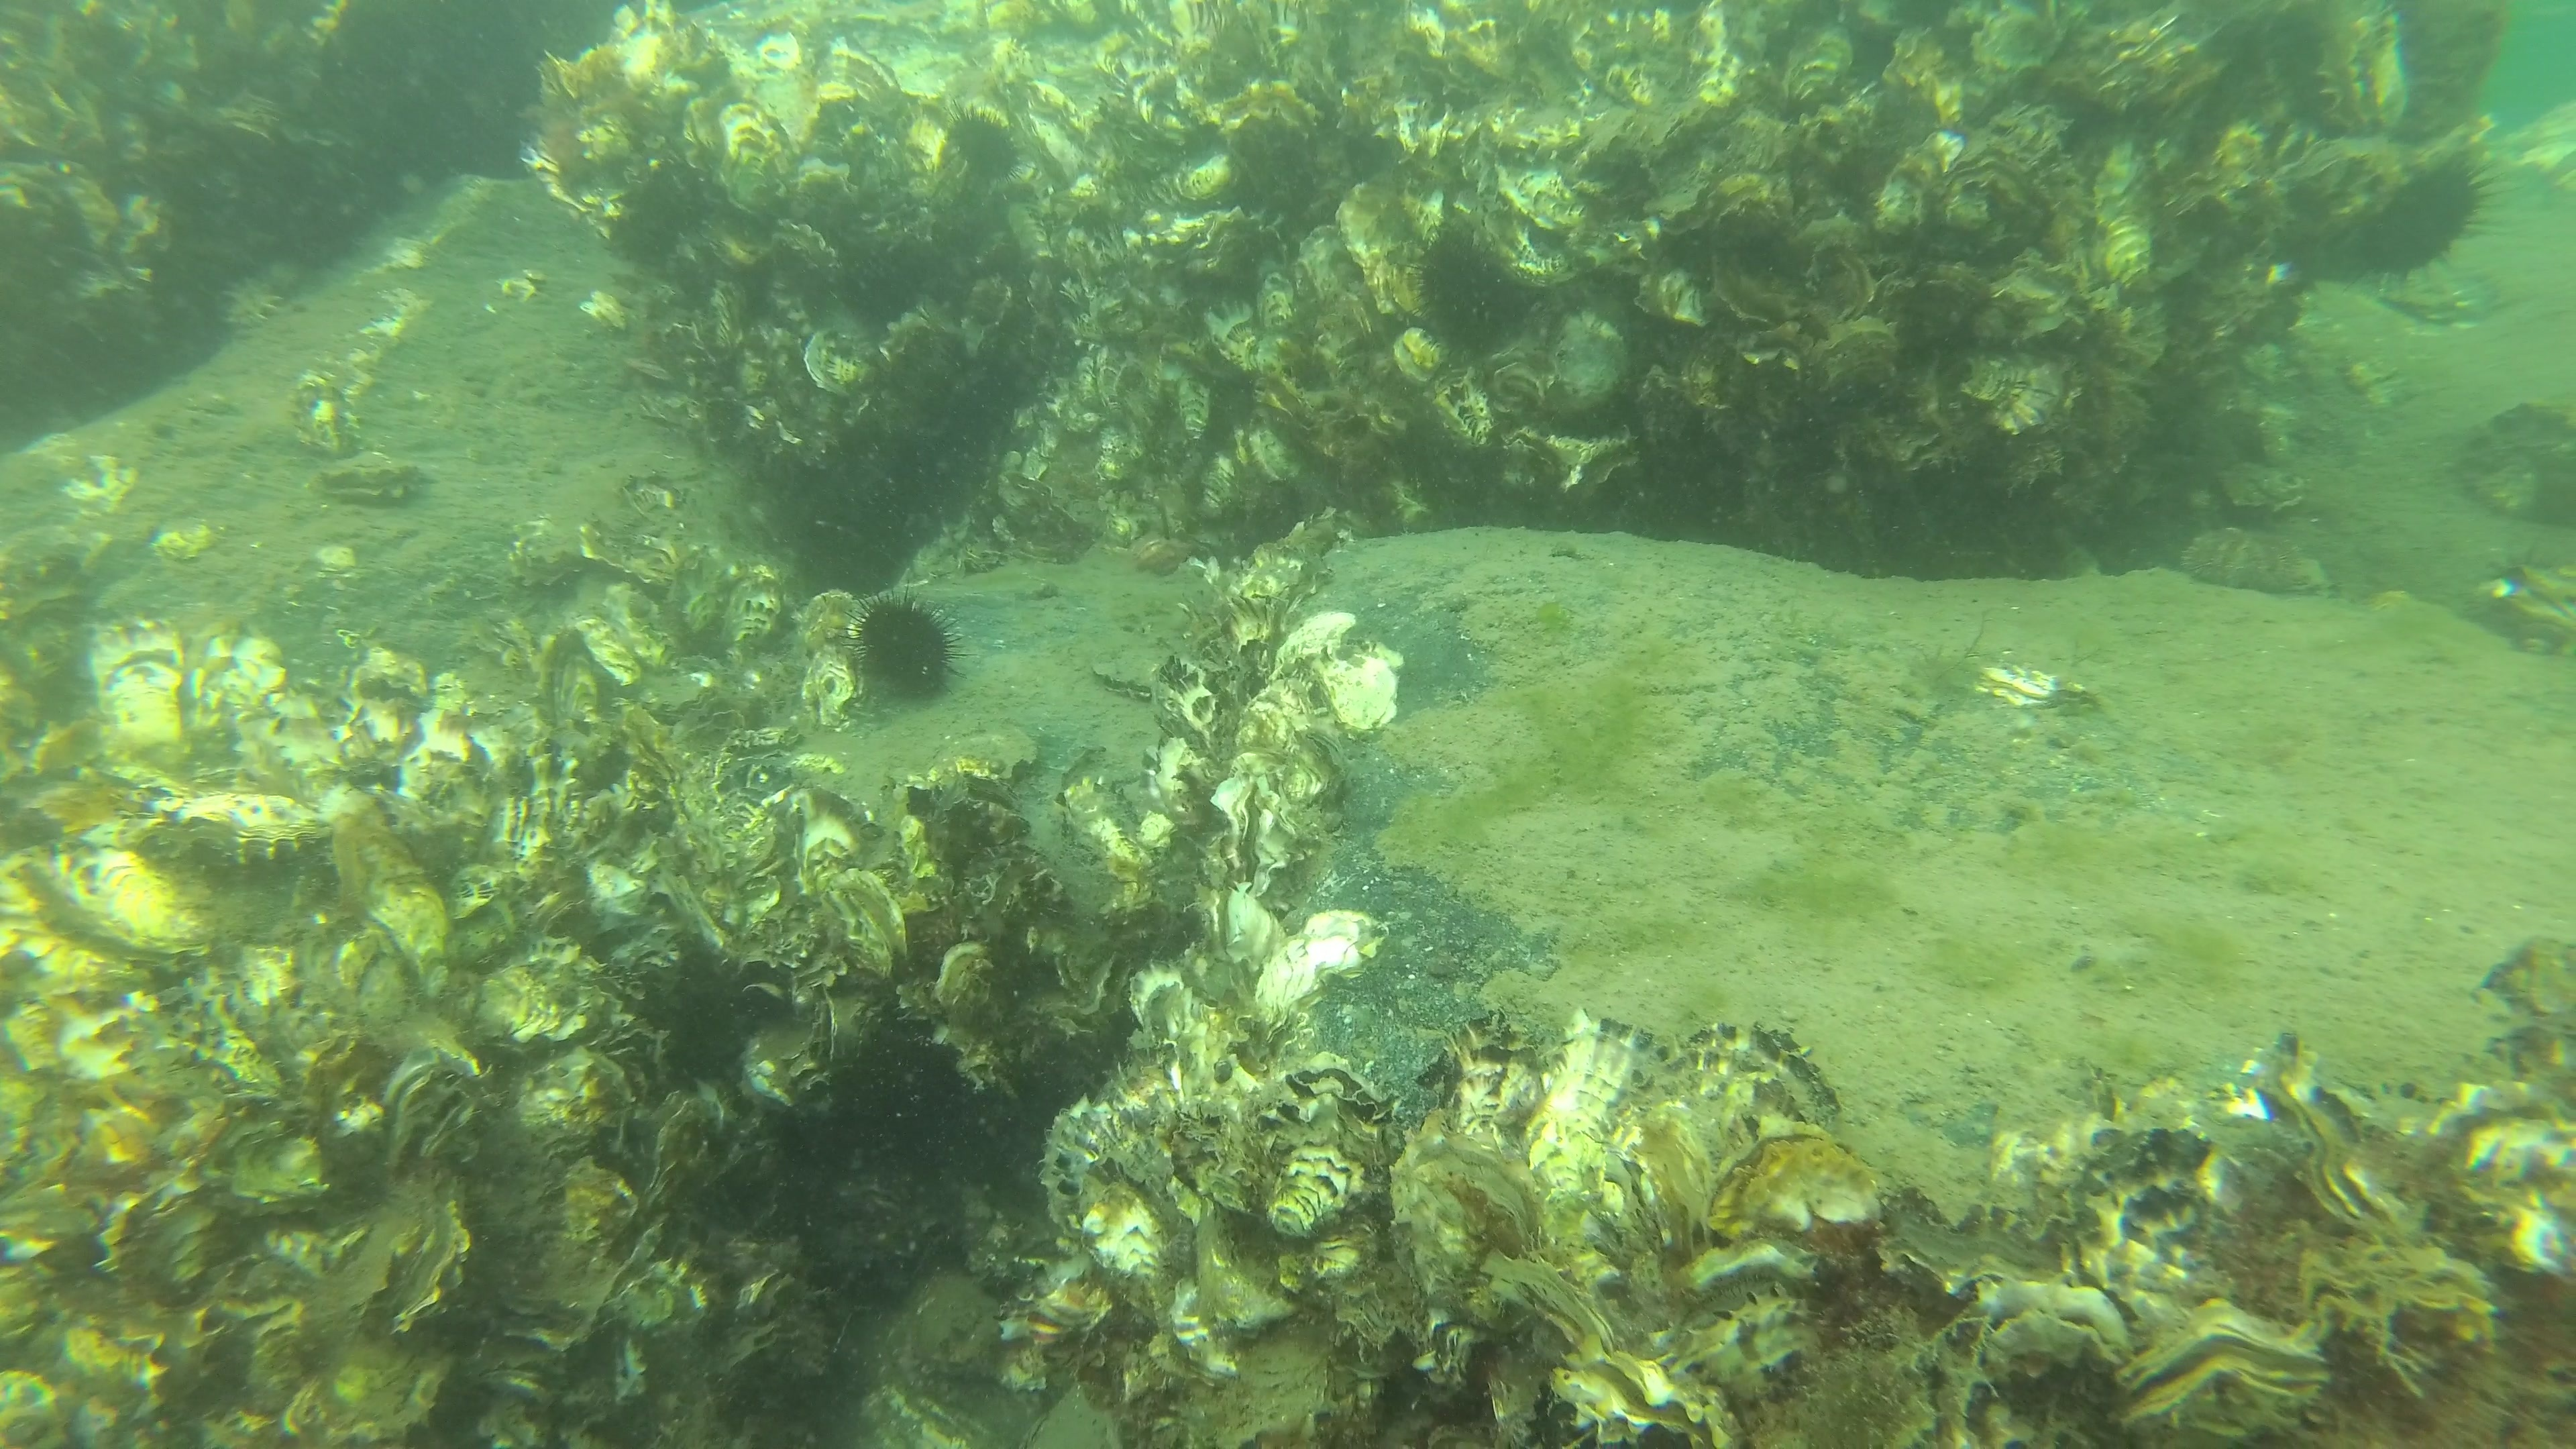echinus: (2364, 163, 2495, 292), (1417, 241, 1522, 359), (849, 593, 961, 702), (947, 106, 1019, 177)
